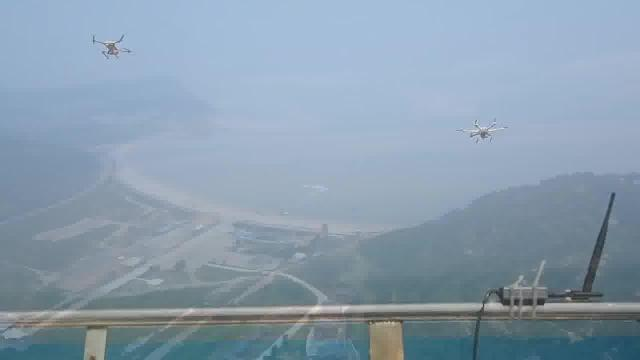drone: (58, 9, 156, 87)
